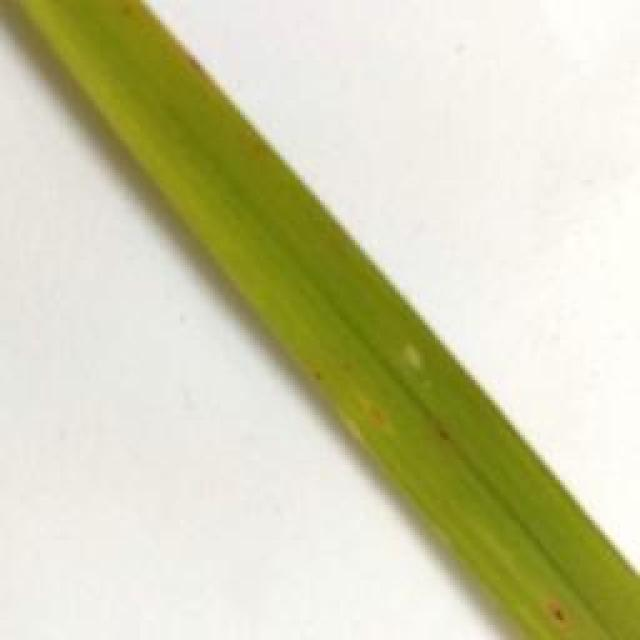Brown_Spot: (340, 389, 405, 433), (445, 398, 470, 457), (544, 587, 578, 629)
